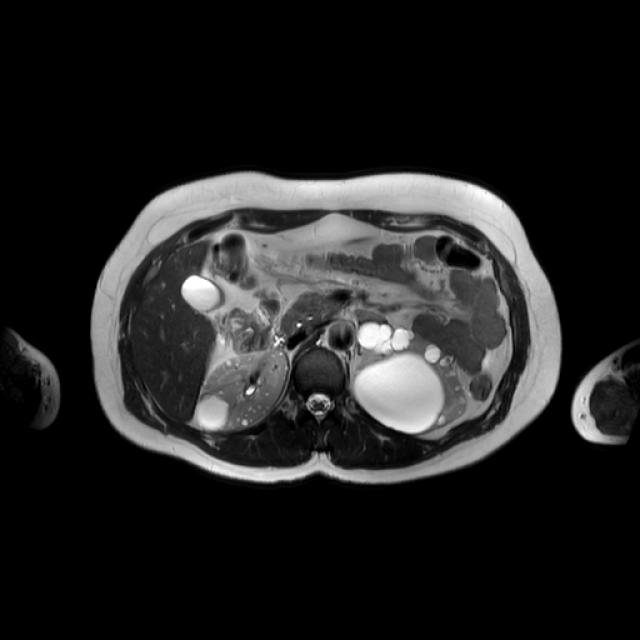sag: (200, 347, 292, 432)
sol: (355, 321, 466, 434)
